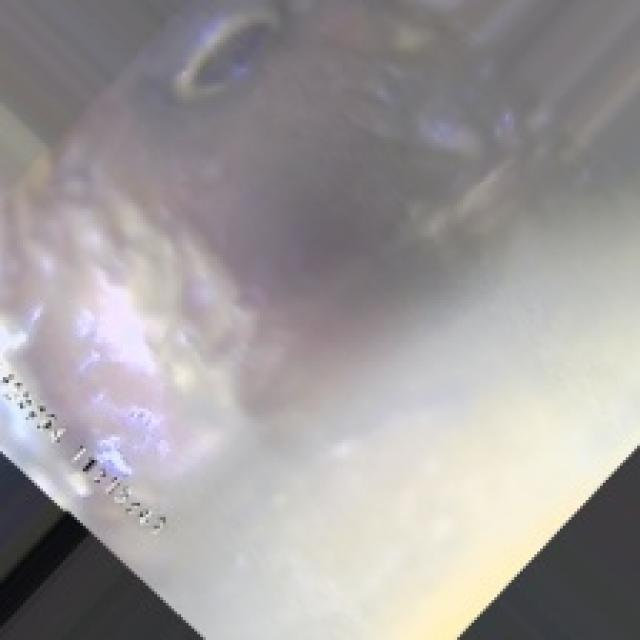encrustation: (157, 8, 286, 112)
